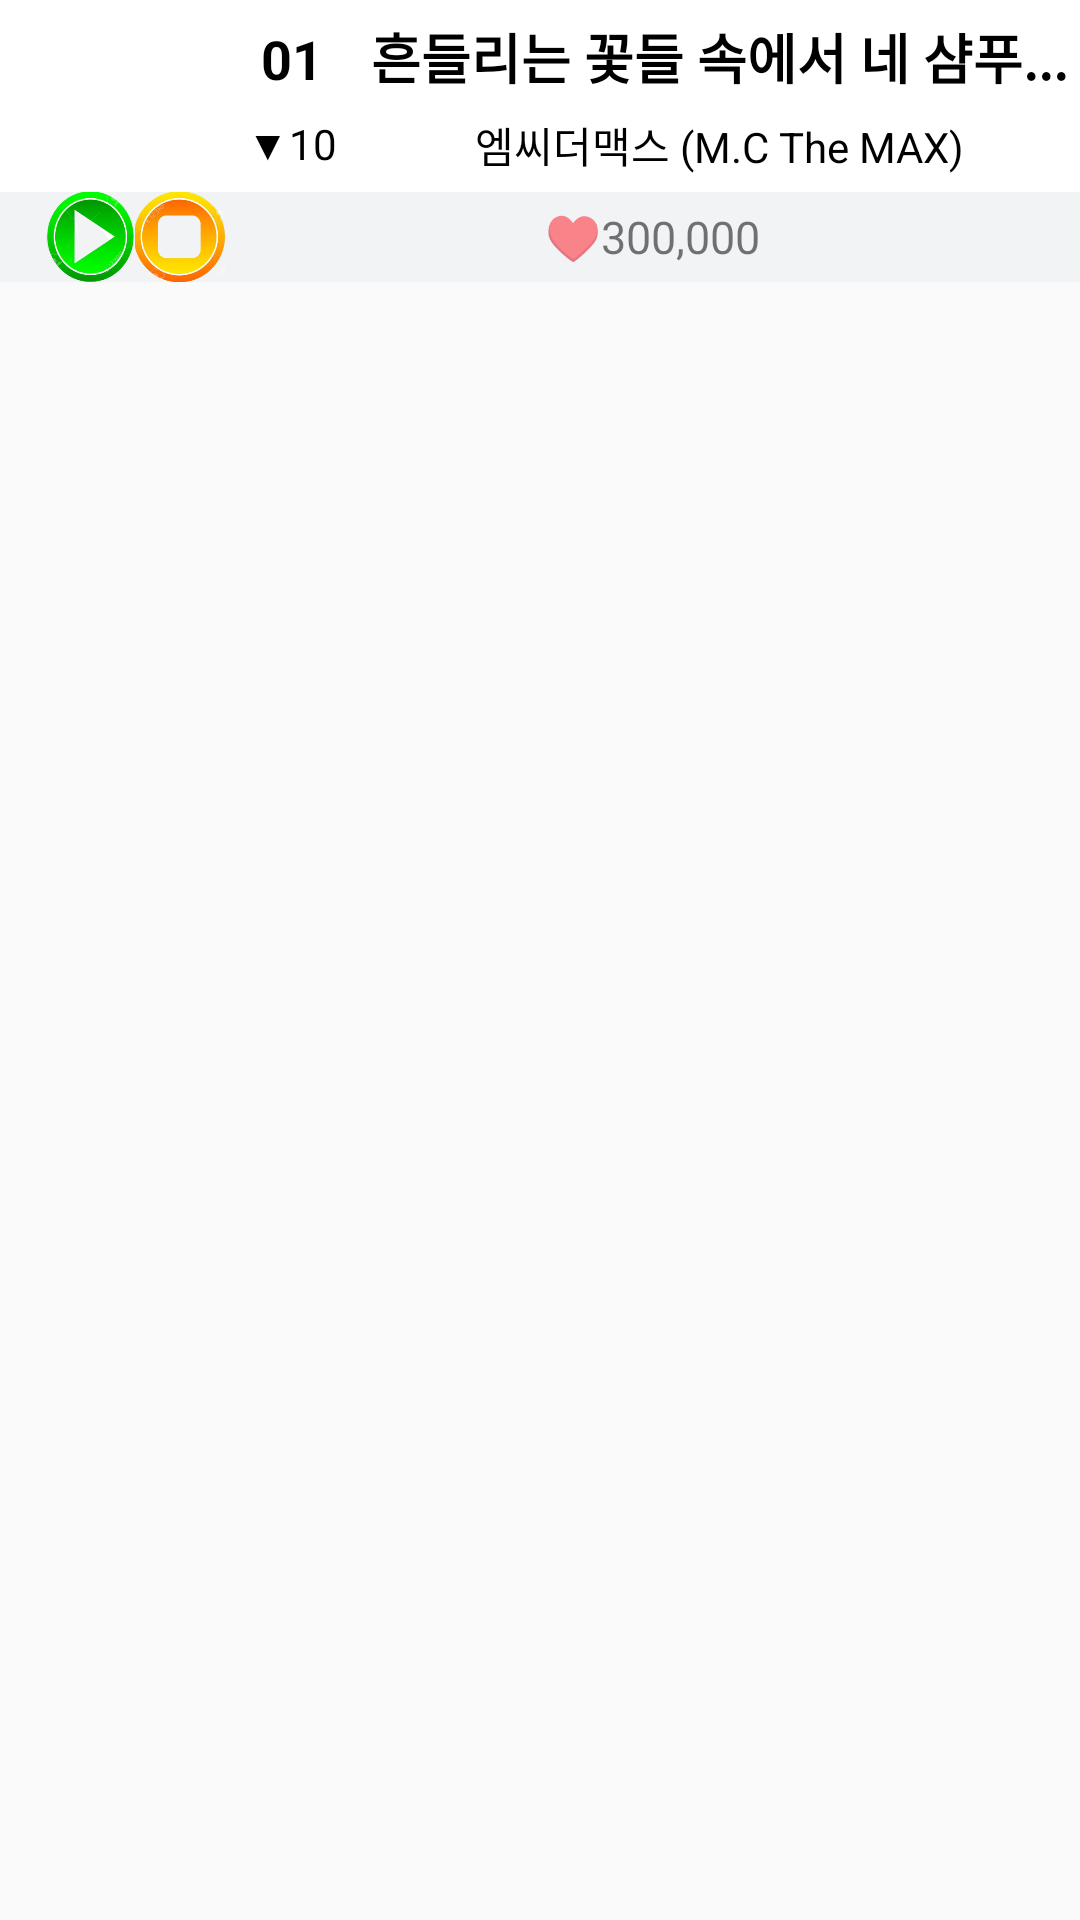

Named icons in this screenshot (1080×1920) and their centers, [x,y]:
start: [90,237]
stop: [180,237]
